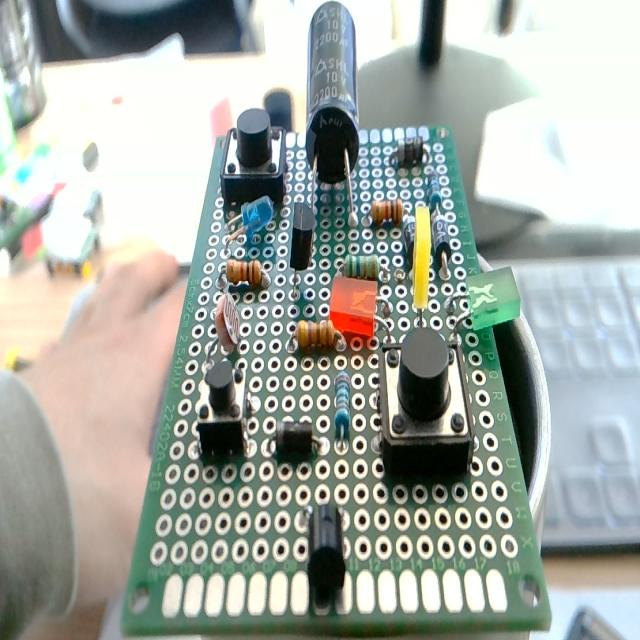Electrolytic capacitor: (302, 4, 362, 223)
cds: (215, 290, 243, 352)
diode: (272, 419, 322, 457), (390, 136, 429, 168), (432, 215, 452, 272), (402, 214, 416, 266)
led: (464, 264, 523, 330), (328, 272, 376, 342), (223, 196, 275, 252), (411, 208, 432, 324)
resistor: (296, 320, 343, 352), (226, 259, 270, 287), (334, 371, 350, 443), (342, 254, 380, 278), (370, 199, 404, 225), (426, 170, 442, 210)
switch: (379, 328, 474, 481), (220, 114, 286, 208), (196, 354, 250, 458)
transistor: (290, 204, 316, 302)
